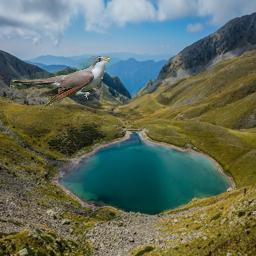Cuckoo: (10, 56, 110, 107)
